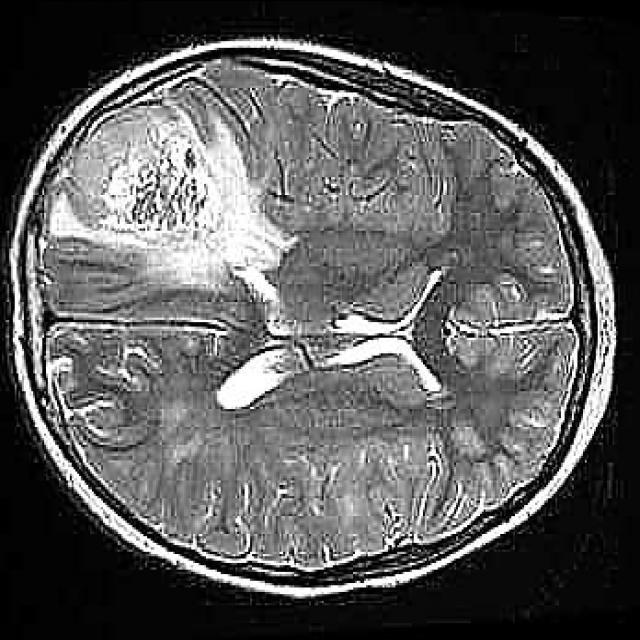tumor: (44, 80, 287, 265)
